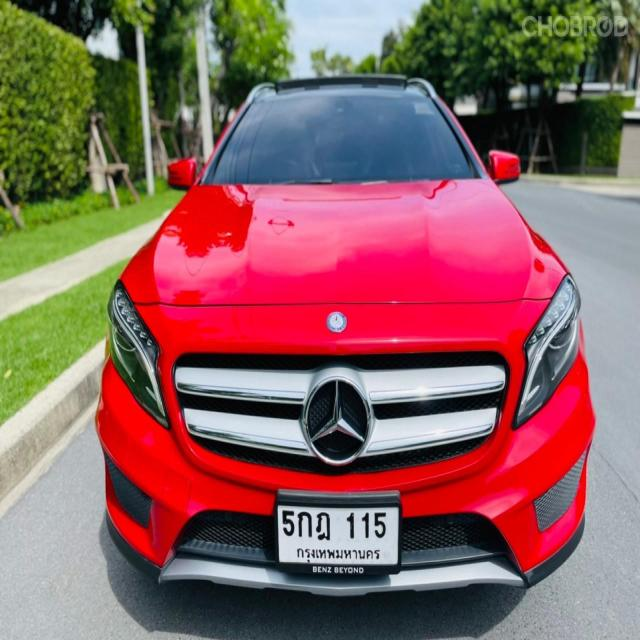license_plate: (274, 486, 404, 580)
